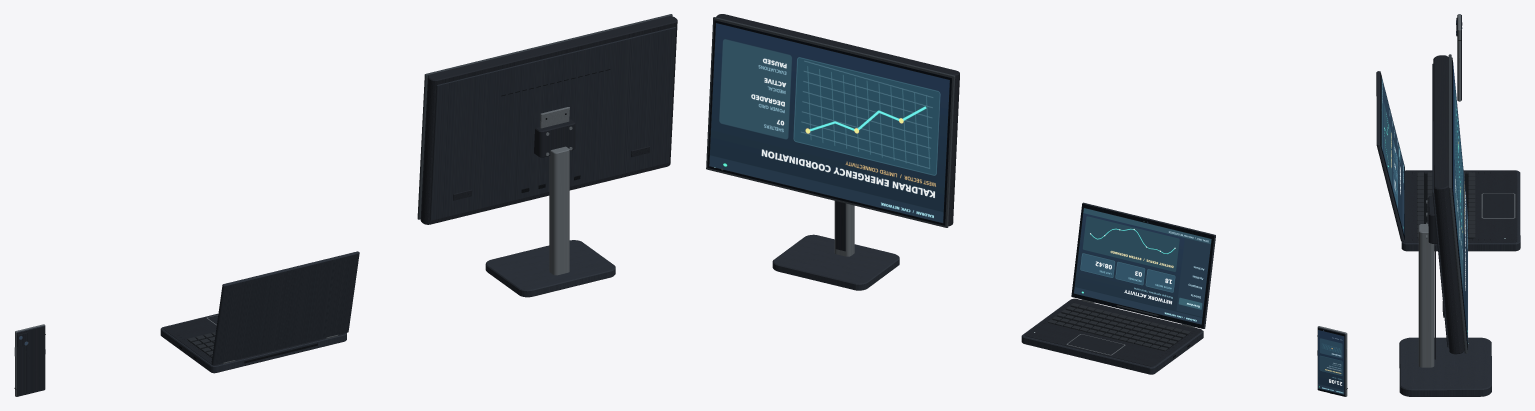
3 renders of one model, left to right at view 1: azimuth 30°, elevation 25°; view 2: azimuth 150°, elevation 25°; view 3: azimuth 270°, elevation 25°, orthographic. The views are drawn at different scales.
Parts seen in each view (by area): view 1: monitor_VIS_Rear_inset_panel_anodized, laptop_VIS_Lid_back_cover_anodized, monitor_VIS_LCD_back_housing_graphite, monitor_VIS_Pedestal_base_anodized, monitor_VIS_Steel_column_edge_alloy, phone_VIS_Rear_ceramic_panel_graphite, laptop_VIS_Unibody_base_plate_anodized, laptop_VIS_Keyboard_deck_inset_graphite, monitor_VIS_Front_machined_bezel_trim, monitor_VIS_VESA_swivel_housing_graphite; view 2: monitor_VIS_SCREEN_EMITTER_screen_monitor_on, laptop_VIS_SCREEN_EMITTER_screen_laptop_on, monitor_VIS_Pedestal_base_anodized, laptop_VIS_Separate_keycaps_keyboard, laptop_VIS_Keyboard_deck_inset_graphite, monitor_VIS_Front_machined_bezel_trim, monitor_VIS_LCD_back_housing_graphite, monitor_VIS_Matte_inner_mask_gloss, laptop_VIS_Lid_inner_bezel_gloss, laptop_VIS_Unibody_base_plate_anodized, phone_VIS_SCREEN_EMITTER_screen_phone_on, laptop_VIS_Keyboard_well_port (+3 smaller); view 3: monitor_VIS_LCD_back_housing_graphite, monitor_VIS_Pedestal_base_anodized, laptop_VIS_Keyboard_deck_inset_graphite, monitor_VIS_Steel_column_edge_alloy, monitor_VIS_SCREEN_EMITTER_screen_monitor_on, laptop_VIS_SCREEN_EMITTER_screen_laptop_on, monitor_VIS_Front_machined_bezel_trim, laptop_VIS_Separate_keycaps_keyboard, laptop_VIS_Unibody_base_plate_anodized, laptop_VIS_Trackpad_glass_graphite, laptop_VIS_Lid_back_cover_anodized, monitor_VIS_Rear_inset_panel_anodized (+8 smaller).
Boxes of the visible parts, <box> form: monitor_VIS_Rear_inset_panel_anodized: <box>430,27,675,220</box>; laptop_VIS_Lid_back_cover_anodized: <box>211,251,359,365</box>; monitor_VIS_LCD_back_housing_graphite: <box>420,16,677,224</box>; monitor_VIS_Pedestal_base_anodized: <box>485,240,615,297</box>; monitor_VIS_Steel_column_edge_alloy: <box>549,146,569,275</box>; phone_VIS_Rear_ceramic_panel_graphite: <box>17,326,45,396</box>; laptop_VIS_Unibody_base_plate_anodized: <box>160,313,346,373</box>; laptop_VIS_Keyboard_deck_inset_graphite: <box>163,314,345,365</box>; monitor_VIS_Front_machined_bezel_trim: <box>417,14,672,219</box>; monitor_VIS_VESA_swivel_housing_graphite: <box>534,119,575,157</box>; monitor_VIS_SCREEN_EMITTER_screen_monitor_on: <box>709,23,949,222</box>; laptop_VIS_SCREEN_EMITTER_screen_laptop_on: <box>1074,208,1211,324</box>; monitor_VIS_Pedestal_base_anodized: <box>772,234,899,290</box>; laptop_VIS_Separate_keycaps_keyboard: <box>1048,303,1190,351</box>; laptop_VIS_Keyboard_deck_inset_graphite: <box>1024,298,1201,366</box>; monitor_VIS_Front_machined_bezel_trim: <box>706,17,955,227</box>; monitor_VIS_LCD_back_housing_graphite: <box>716,14,959,226</box>; monitor_VIS_Matte_inner_mask_gloss: <box>707,20,951,225</box>; laptop_VIS_Lid_inner_bezel_gloss: <box>1071,203,1214,328</box>; laptop_VIS_Unibody_base_plate_anodized: <box>1021,299,1203,374</box>; phone_VIS_SCREEN_EMITTER_screen_phone_on: <box>1318,330,1344,394</box>; laptop_VIS_Keyboard_well_port: <box>1052,306,1188,350</box>; monitor_VIS_LCD_back_housing_graphite: <box>1433,55,1464,354</box>; monitor_VIS_Pedestal_base_anodized: <box>1399,337,1491,396</box>; laptop_VIS_Keyboard_deck_inset_graphite: <box>1403,170,1517,242</box>; monitor_VIS_Steel_column_edge_alloy: <box>1418,224,1434,367</box>; monitor_VIS_SCREEN_EMITTER_screen_monitor_on: <box>1453,62,1467,342</box>; laptop_VIS_SCREEN_EMITTER_screen_laptop_on: <box>1381,77,1404,234</box>; monitor_VIS_Front_machined_bezel_trim: <box>1448,54,1467,353</box>; laptop_VIS_Separate_keycaps_keyboard: <box>1417,172,1475,238</box>; laptop_VIS_Unibody_base_plate_anodized: <box>1401,170,1520,251</box>; laptop_VIS_Trackpad_glass_graphite: <box>1482,193,1514,217</box>; laptop_VIS_Lid_back_cover_anodized: <box>1376,71,1404,241</box>; monitor_VIS_Rear_inset_panel_anodized: <box>1432,64,1448,347</box>.
Bounding box in the file's own units: 1.69 × 0.5622 × 0.2917.
Materials: 16 (13 with a texture image).
